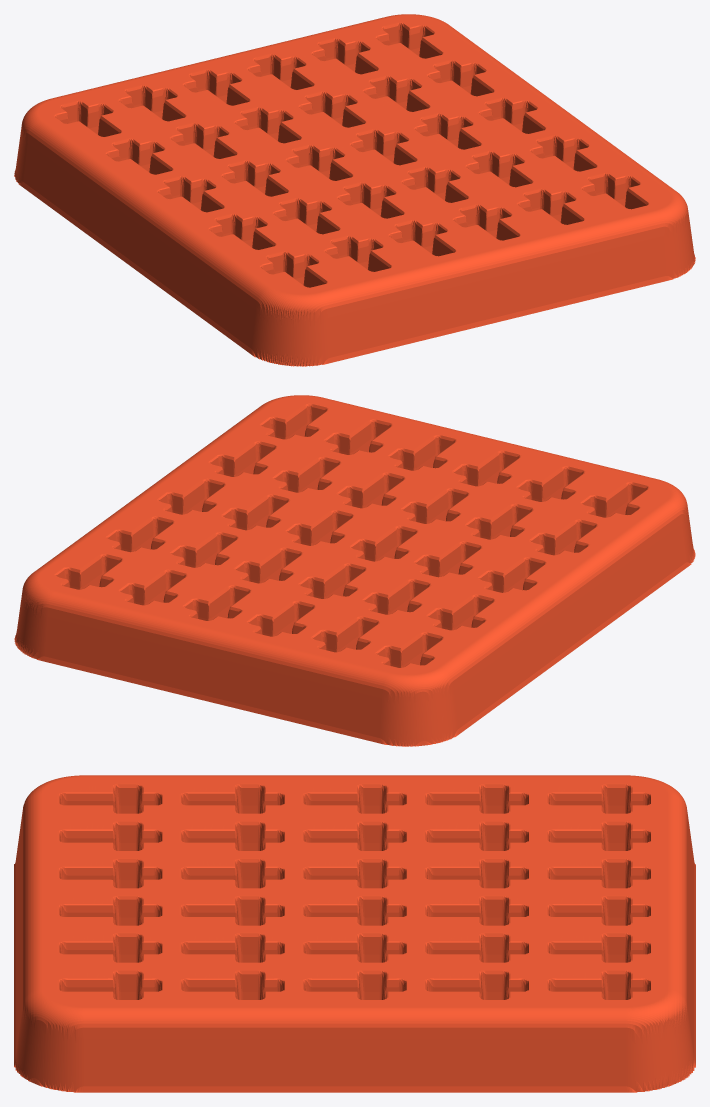
The model's file is mold.glb.
3 views of the same model, one above another, from view 1: azimuth 30°, elevation 25°; view 2: azimuth 150°, elevation 25°; view 3: azimuth 270°, elevation 25° (orthographic). The views are drawn at different scales.
Visible parts, largest first — view 1: geometry_0; view 2: geometry_0; view 3: geometry_0.
Part boxes in pixels (bbox=[...]): geometry_0: bbox=[14, 14, 695, 366]; geometry_0: bbox=[14, 395, 695, 746]; geometry_0: bbox=[14, 775, 695, 1092].
Bounding box in the file's own units: 0.0776 × 0.0105 × 0.0882.
